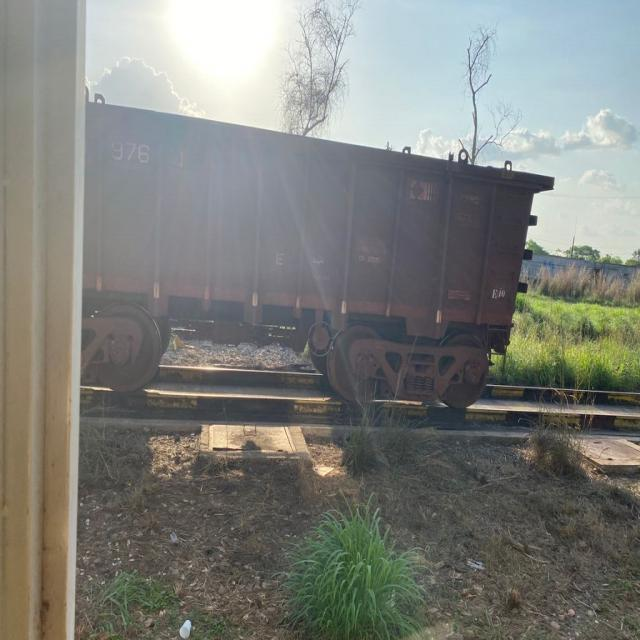gondola: (83, 69, 554, 449)
